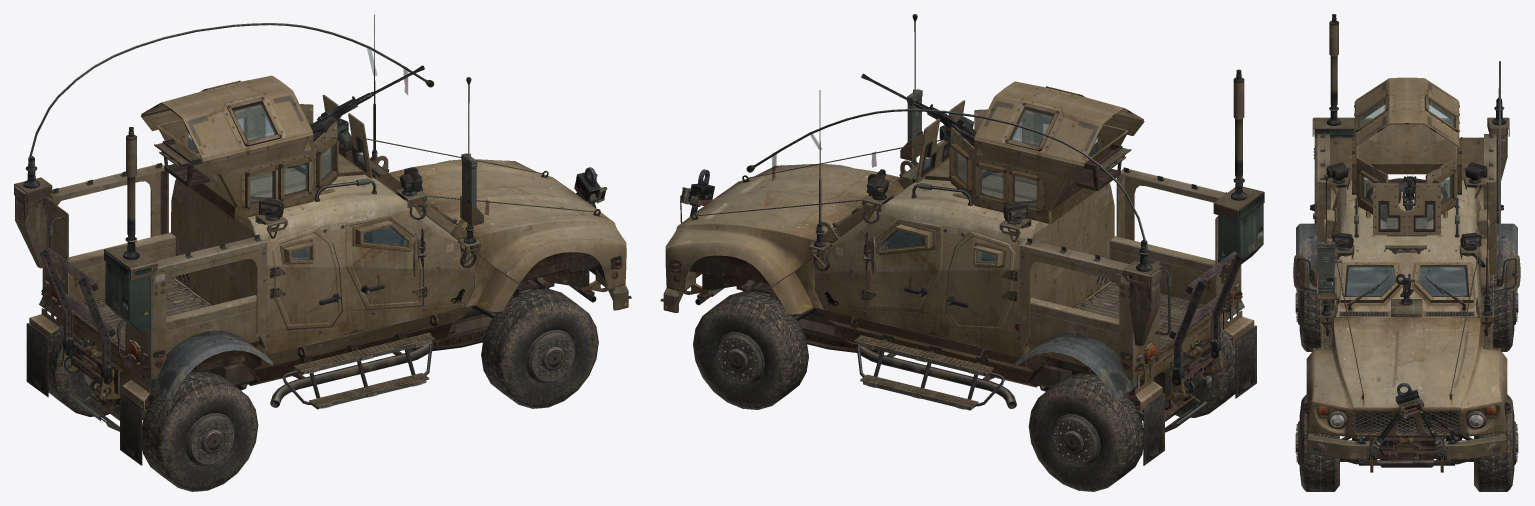
The model's file is oshkosh-matv.glb.
The picture shows the model from 3 angles, left to right: view 1: azimuth 30°, elevation 25°; view 2: azimuth 150°, elevation 25°; view 3: azimuth 270°, elevation 25°; orthographic projection. The views are drawn at different scales.
Visible parts, largest first — view 1: vehicle_matv_static_LOD_0, vehicle_matv_static_LOD_0.001; view 2: vehicle_matv_static_LOD_0, vehicle_matv_static_LOD_0.001; view 3: vehicle_matv_static_LOD_0, vehicle_matv_static_LOD_0.001.
Boxes of the visible parts, <box> form: vehicle_matv_static_LOD_0: <box>14,14,631,491</box>; vehicle_matv_static_LOD_0.001: <box>141,65,424,219</box>; vehicle_matv_static_LOD_0: <box>660,14,1264,491</box>; vehicle_matv_static_LOD_0.001: <box>861,73,1144,223</box>; vehicle_matv_static_LOD_0: <box>1293,14,1520,491</box>; vehicle_matv_static_LOD_0.001: <box>1352,77,1461,236</box>.
Size of the model in its own units: 672 by 431 by 289.
Materials: 4 (4 with a texture image).
